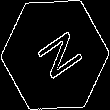N_SW: (26, 24, 84, 86)
